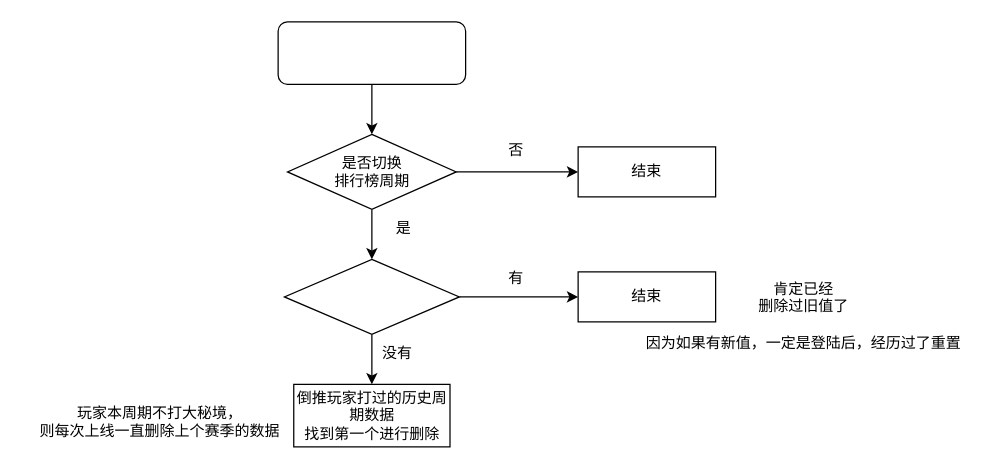
The diagram is 999 pixels wide and 469 high, and some of its shapes have lost their labels. Here are the shapes that lost their labels. From the top down, the centre of each, then its label:
At point (371, 52): "玩家登录".
At point (371, 296): "玩家是否有 当前排行榜对应的 周期数据".
